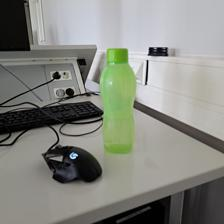bottle: (99, 47, 136, 154)
mouse: (41, 143, 102, 184)
